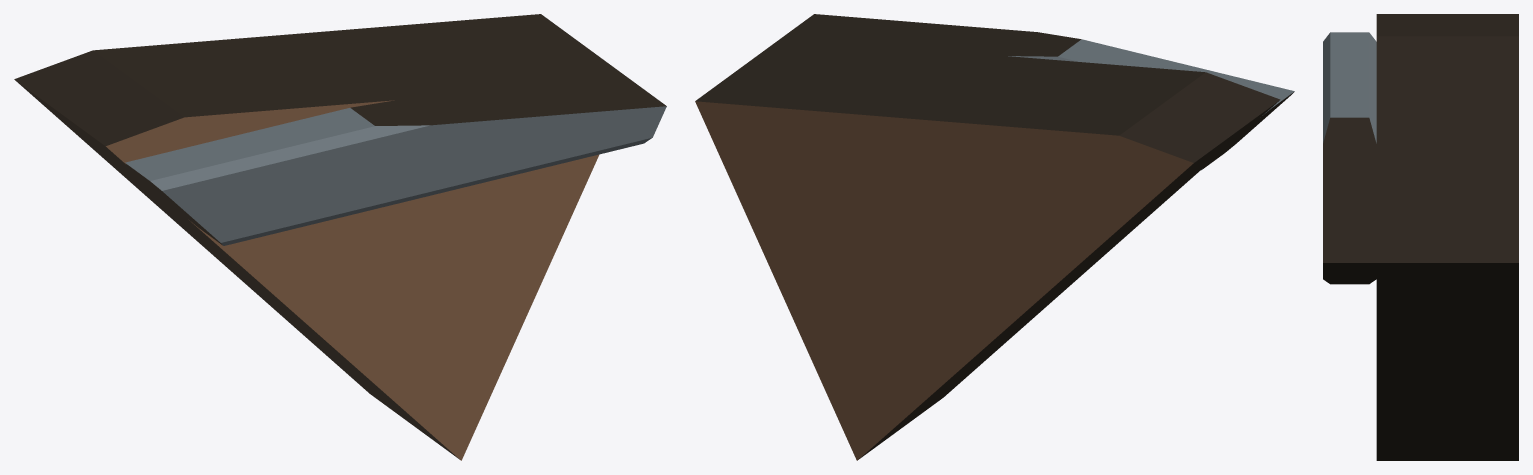
The model's file is SM_DoorShard_03_18.fbx.
3 renders of one model, left to right at view 1: azimuth 30°, elevation 25°; view 2: azimuth 150°, elevation 25°; view 3: azimuth 270°, elevation 25°, orthographic. The views are drawn at different scales.
Parts seen in each view (by area): view 1: SM_DoorShard_03_18; view 2: SM_DoorShard_03_18; view 3: SM_DoorShard_03_18.
Boxes of the visible parts, x1,y1,x2,y2 form: SM_DoorShard_03_18: (14, 14, 666, 460); SM_DoorShard_03_18: (695, 14, 1294, 460); SM_DoorShard_03_18: (1323, 14, 1518, 460).
Bounding box in the file's own units: 53.14 × 22 × 39.62.
